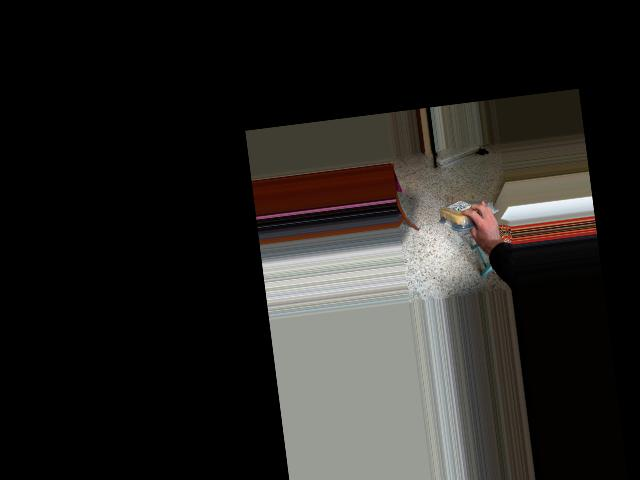cheese: (437, 197, 491, 229)
